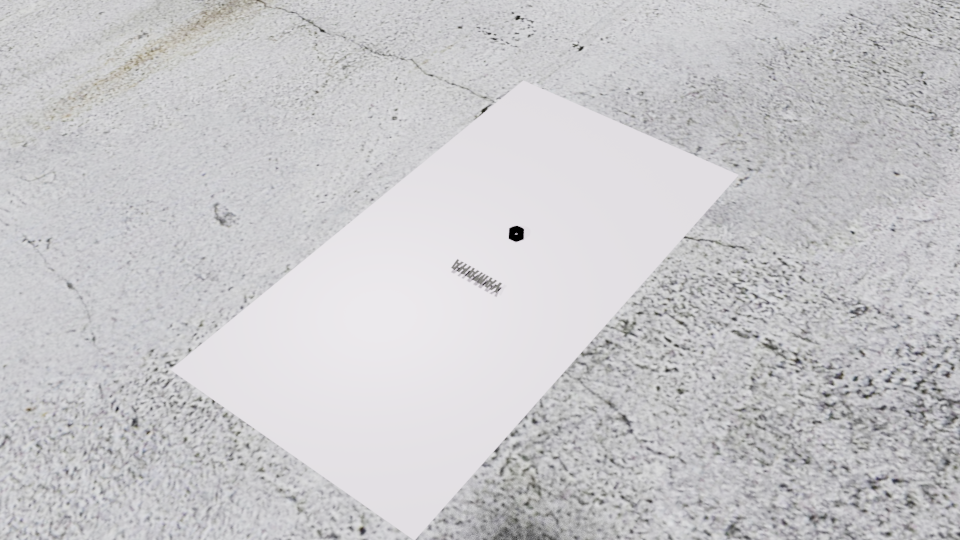yamaha_letters: (450, 258, 502, 293)
